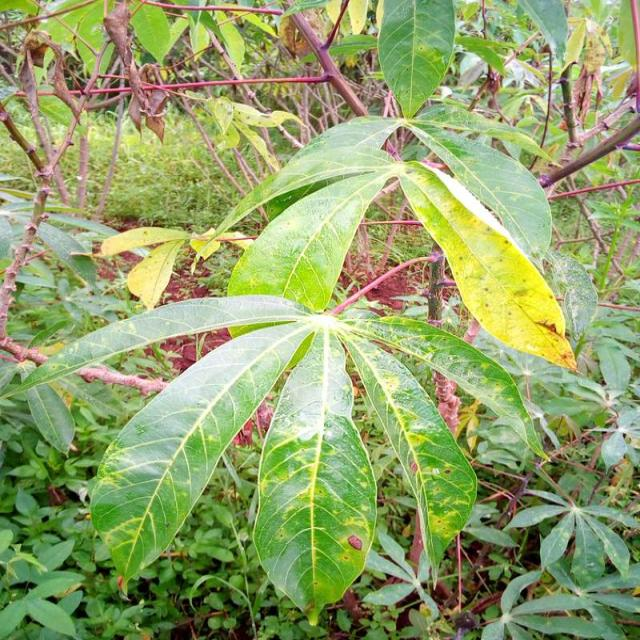cassava leaf: (88, 316, 315, 589), (396, 158, 578, 373), (251, 322, 378, 625), (340, 322, 478, 571), (375, 0, 456, 118)
